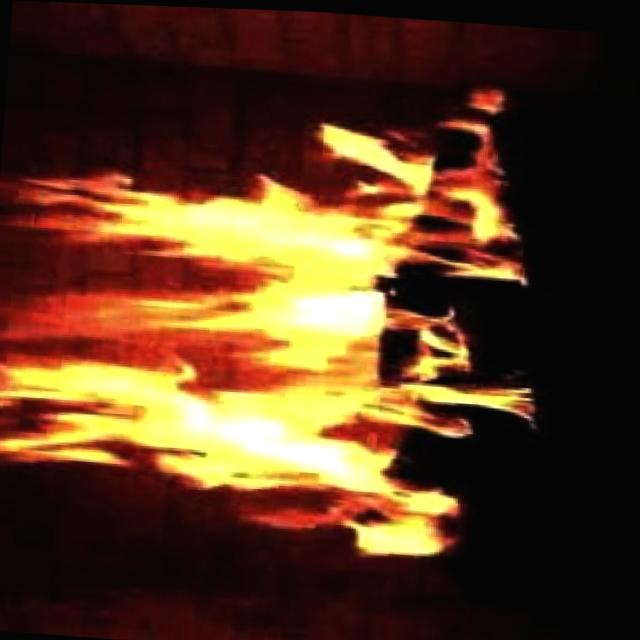helmet: (0, 52, 573, 578)
